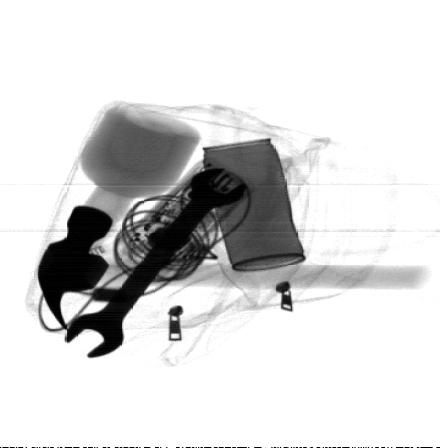Hammer: (38, 206, 430, 335)
Wrench: (62, 168, 244, 357)
